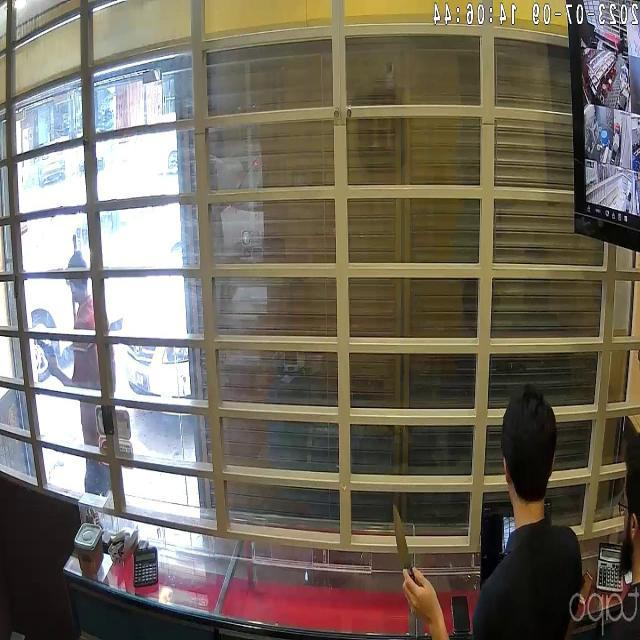Knife: (386, 496, 416, 587)
